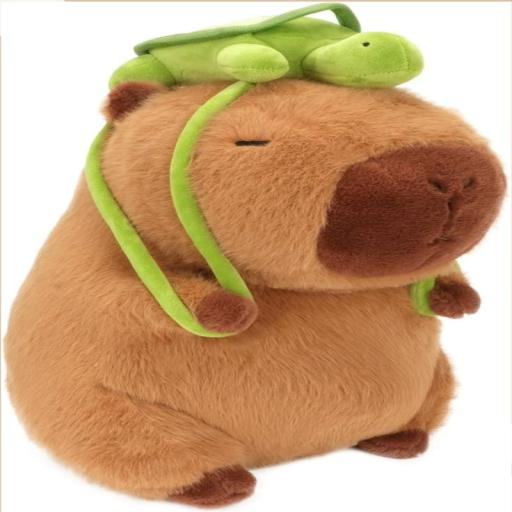capibara: (60, 10, 498, 504)
